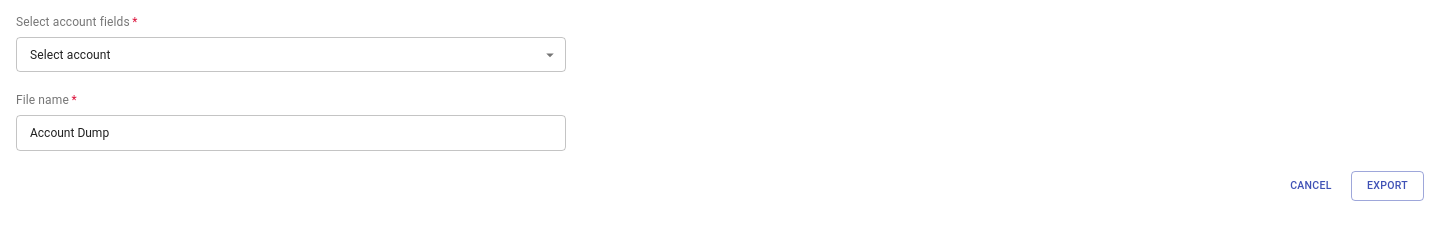
Test case: AccountDump › shows validation errors when submitting empty form
The image size is (1432, 237).
Click the button "Export": (1388, 186) [1351, 170, 1424, 201]
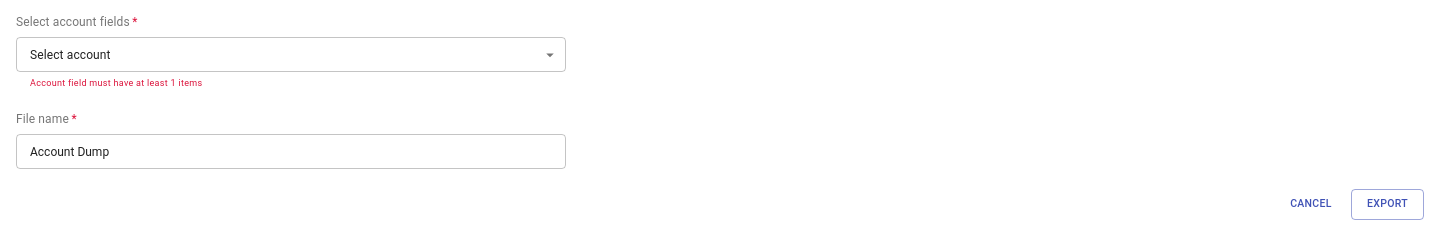
Check: the text "Account field must have at least 1 items" is shown, box [30, 78, 202, 88]
